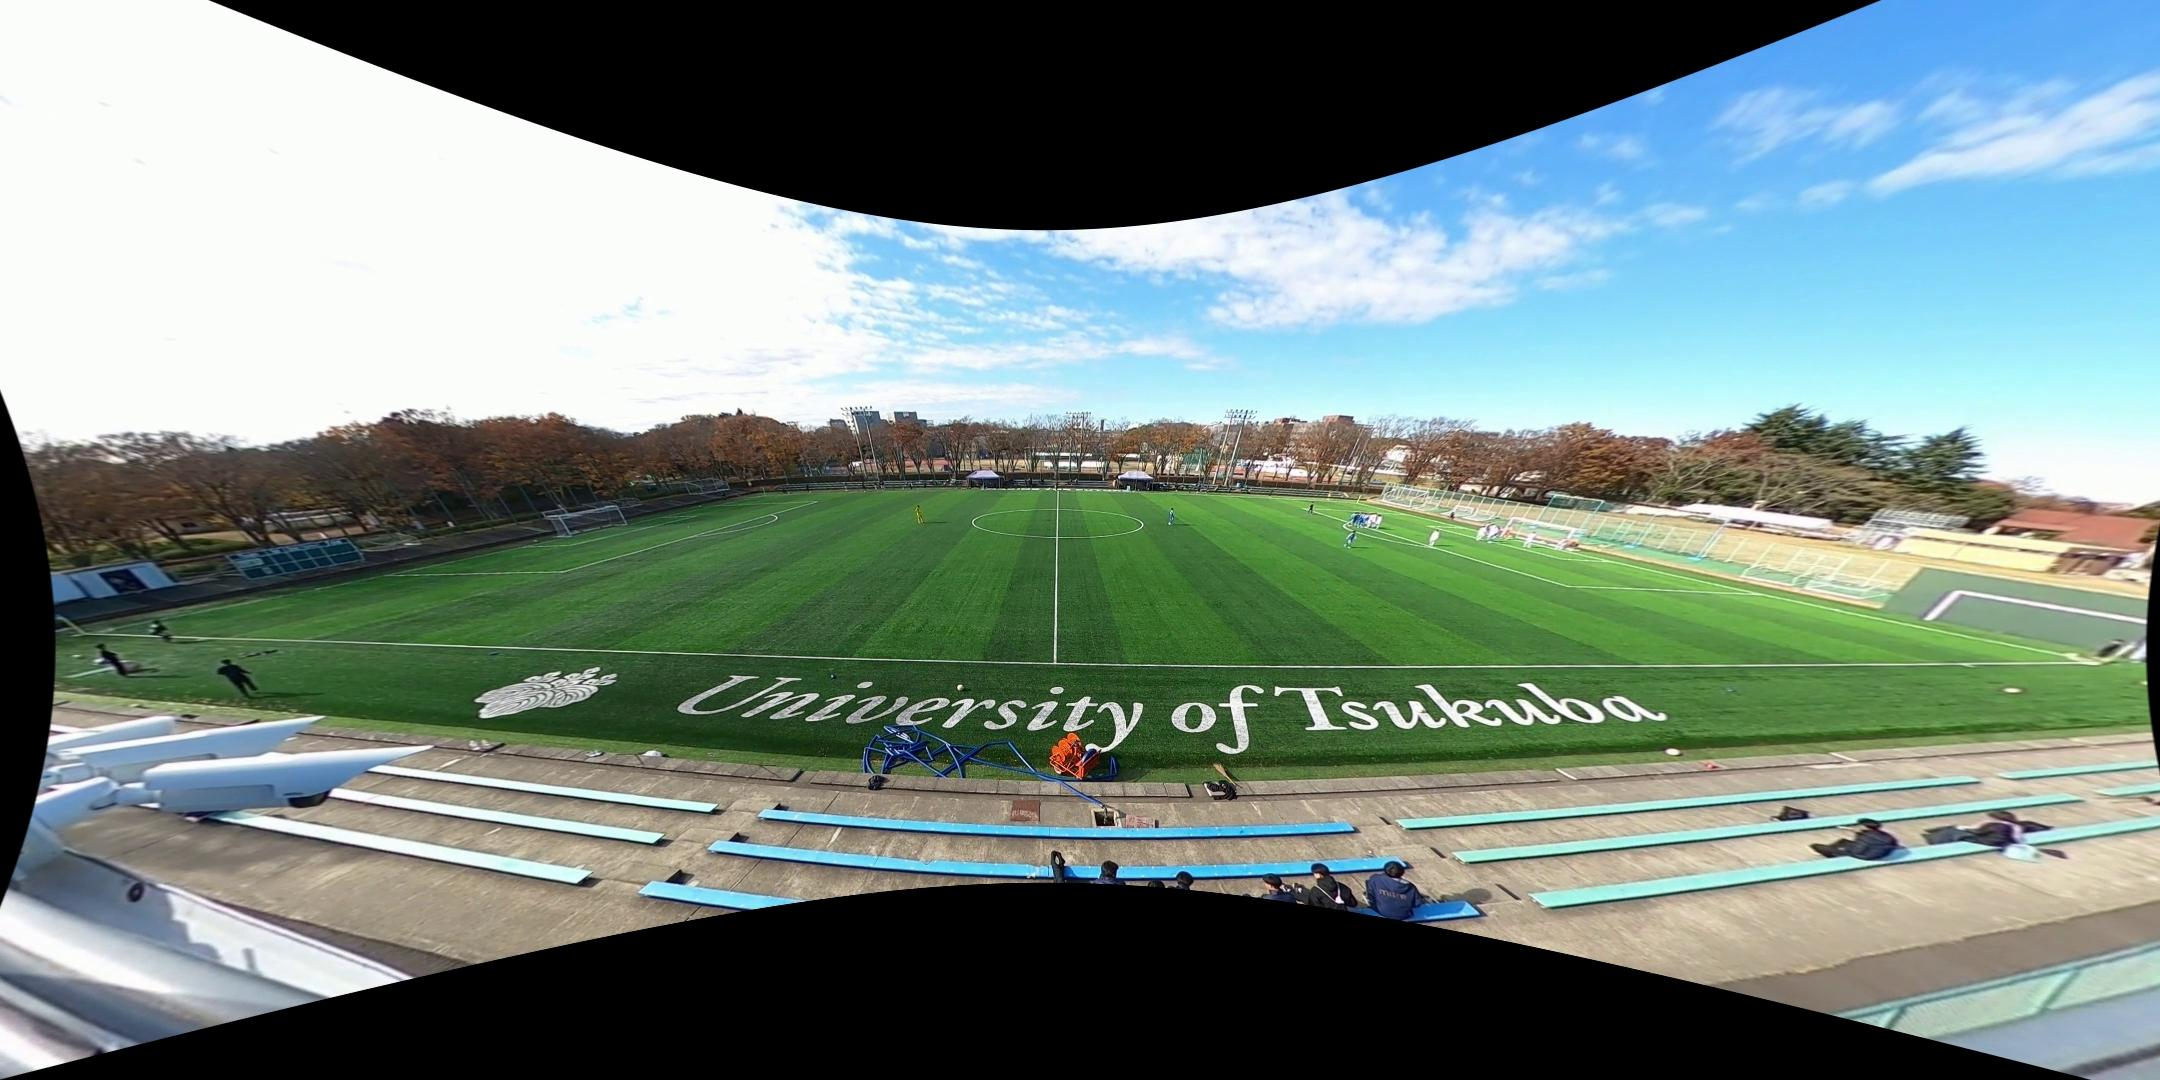person: (2087, 638, 2124, 665), (1523, 531, 1538, 548), (1344, 530, 1357, 549), (1487, 524, 1500, 543), (1475, 525, 1488, 542), (1429, 529, 1441, 547), (914, 505, 925, 524), (1373, 514, 1384, 529), (1556, 538, 1568, 551), (1502, 525, 1512, 540), (1356, 514, 1366, 528), (1306, 501, 1315, 516), (1350, 512, 1359, 527), (1168, 507, 1175, 526), (1369, 513, 1377, 528), (1363, 513, 1371, 528)
sports ball: (2004, 683, 2024, 698), (1663, 745, 1684, 759), (956, 682, 968, 694), (2065, 651, 2079, 660)
